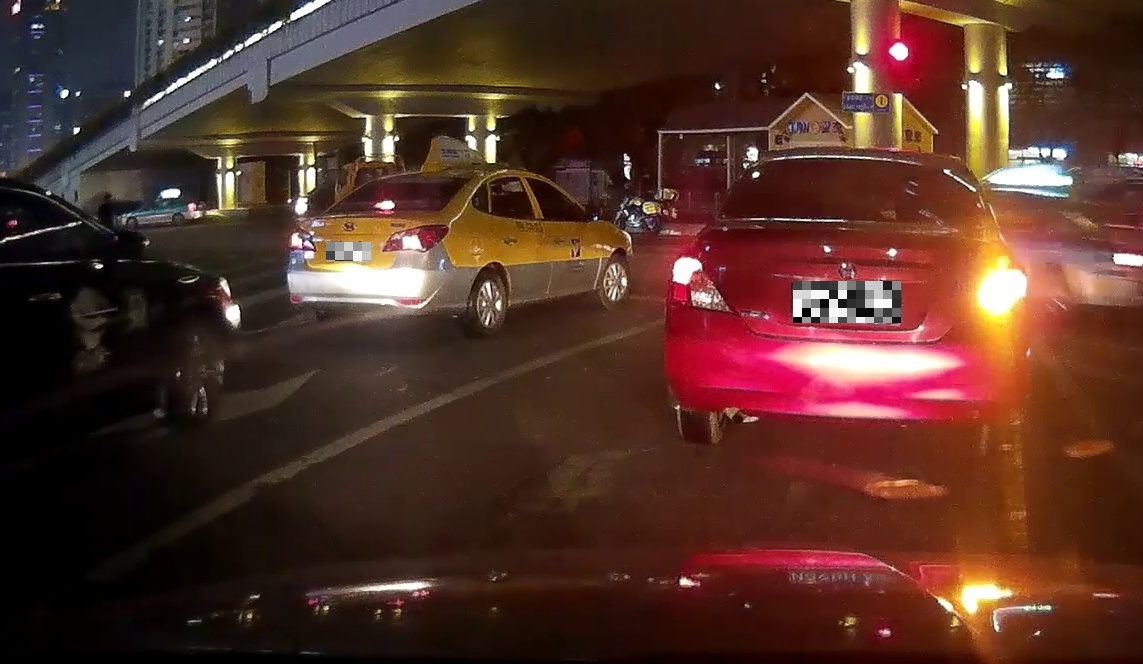L_light: (668, 254, 739, 314), (287, 229, 317, 253)
R_light: (977, 267, 1027, 319), (381, 223, 449, 253)
T_light: (834, 158, 878, 164), (373, 202, 395, 210)
night-brake: (286, 166, 472, 339)
night-right: (662, 145, 1027, 460)
plate_1: (326, 242, 371, 261)
plate_2: (793, 281, 901, 323)
